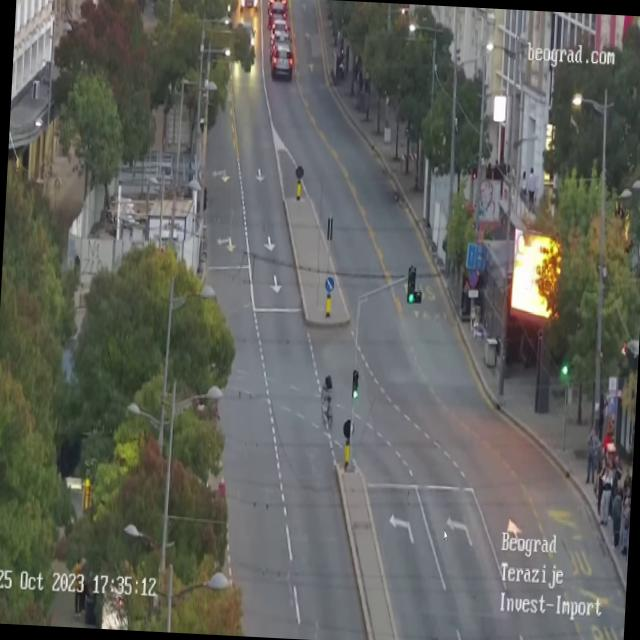car: (234, 18, 256, 59), (270, 44, 294, 80), (270, 26, 292, 52), (270, 0, 288, 24), (270, 18, 288, 38), (239, 0, 260, 11)
